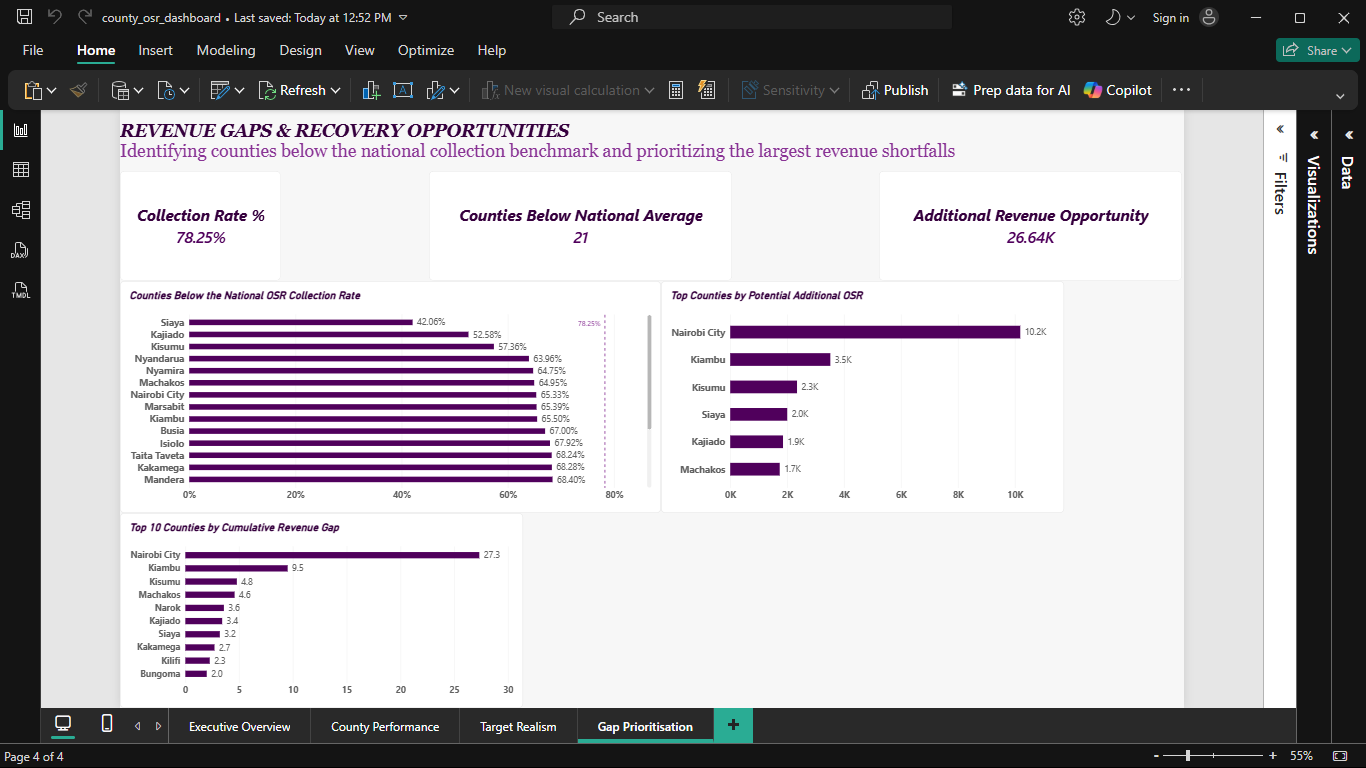

Layout of this report page (visuals, bound fields, positions):
{"tool":"powerbi","page":{"name":"Gap Prioritisation","canvas":[1920,1080],"ordinal":3},"visuals":[{"type":"textbox","box":[0,0,1918,110.2],"z":0},{"type":"cardVisual","fields":{"Data":["county_osr.Collection Rate %"]},"box":[0,110.2,290.8,198.7],"z":1000},{"type":"cardVisual","fields":{"Data":["county_osr.Counties Below National Average"]},"box":[558.1,110.2,547.2,198.7],"z":2000},{"type":"cardVisual","fields":{"Data":["county_osr.Additional Revenue Opportunity"]},"box":[1370.8,110.2,547.2,198.7],"z":3000},{"type":"clusteredBarChart","title":"Counties Below the National OSR Collection Rate","fields":{"Category":["county_osr.county"],"Y":["county_osr.Collection Rate %"]},"box":[0,308.8,977.1,419],"z":4000},{"type":"clusteredBarChart","title":"Top Counties by Potential Additional OSR","fields":{"Category":["county_osr.county"],"Y":["county_osr.Additional Revenue Opportunity"]},"box":[977.1,308.8,727.8,419],"z":5000},{"type":"clusteredBarChart","title":"Top 10 Counties by Cumulative Revenue Gap","fields":{"Category":["county_osr.county"],"Y":["county_osr.Revenue Gap (B)"]},"box":[0,727.8,727.8,352.2],"z":6000}]}

Visuals, with their boxes on the page's 1920x1080 design canvas (x1, y1, x2, y2). These are canvas units, not pixel positions in the 1366x768 screenshot, which may show the page scaled, cropped or inside an application window:
textbox: l=0, t=0, r=1918, b=110
cardVisual - county_osr.Collection Rate %: l=0, t=110, r=291, b=309
cardVisual - county_osr.Counties Below National Average: l=558, t=110, r=1105, b=309
cardVisual - county_osr.Additional Revenue Opportunity: l=1371, t=110, r=1918, b=309
"Counties Below the National OSR Collection Rate" clusteredBarChart: l=0, t=309, r=977, b=728
"Top Counties by Potential Additional OSR" clusteredBarChart: l=977, t=309, r=1705, b=728
"Top 10 Counties by Cumulative Revenue Gap" clusteredBarChart: l=0, t=728, r=728, b=1080
